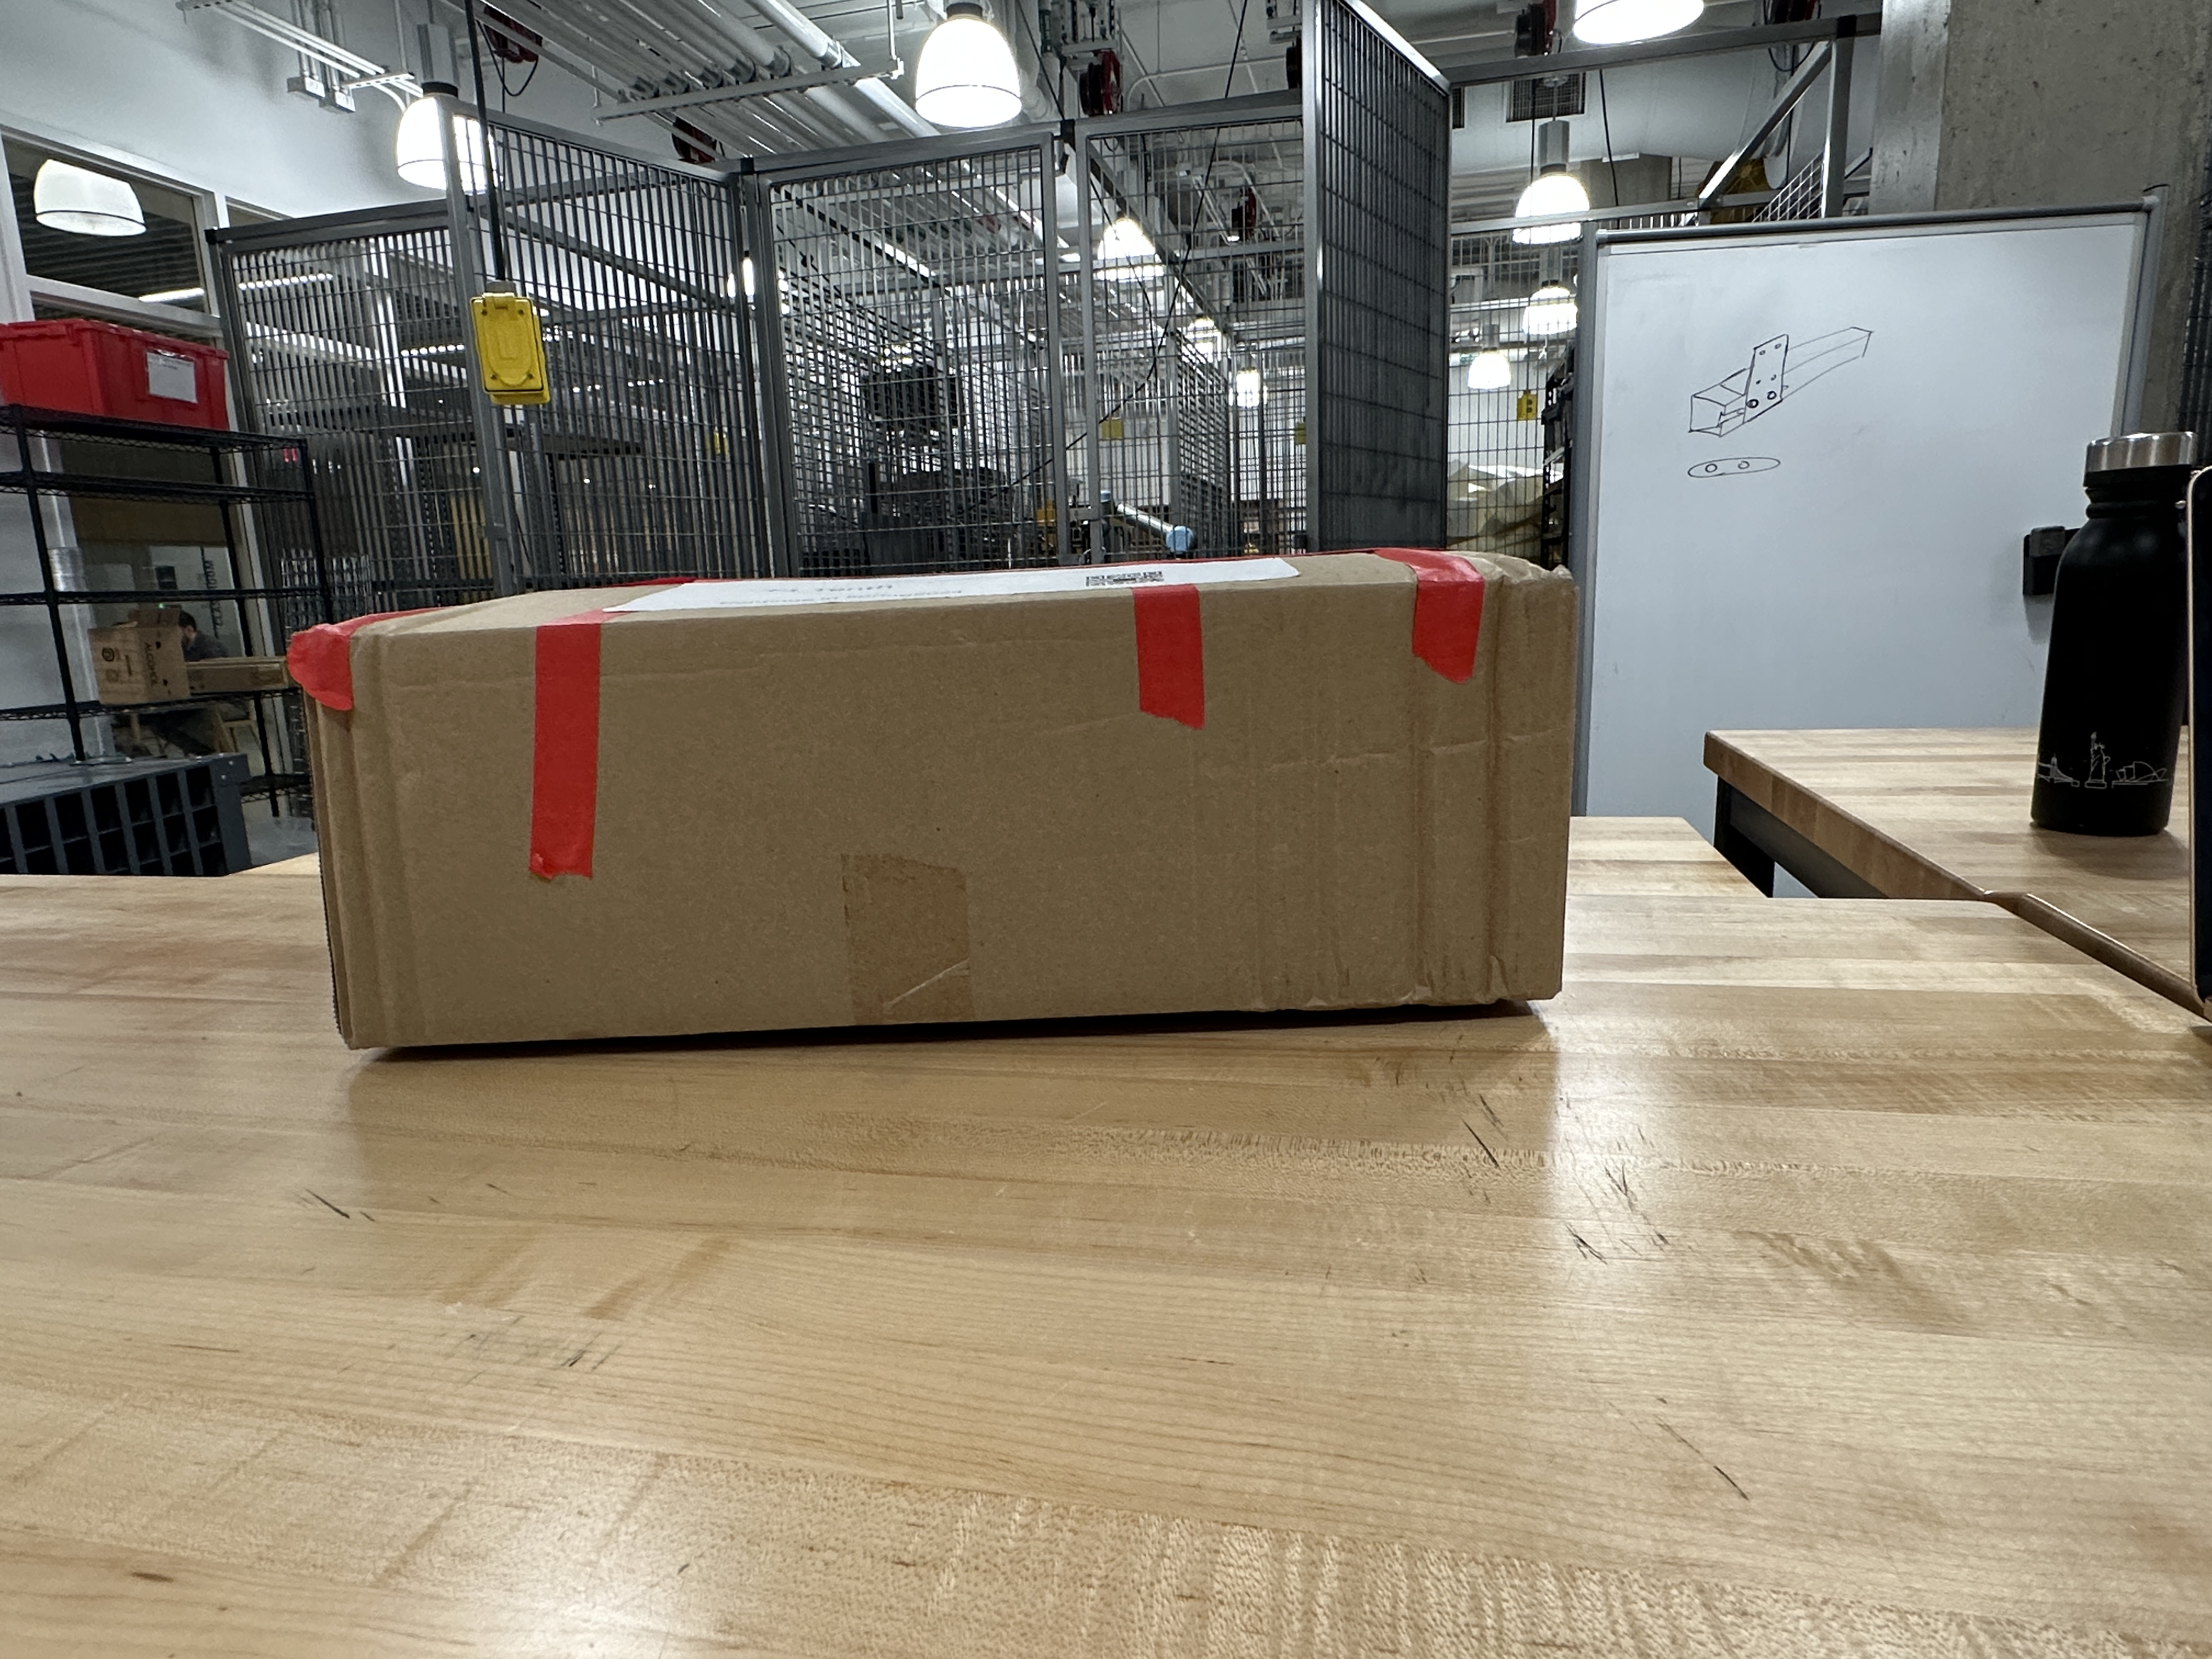Box_Obstacle: (286, 570, 1594, 1066)
